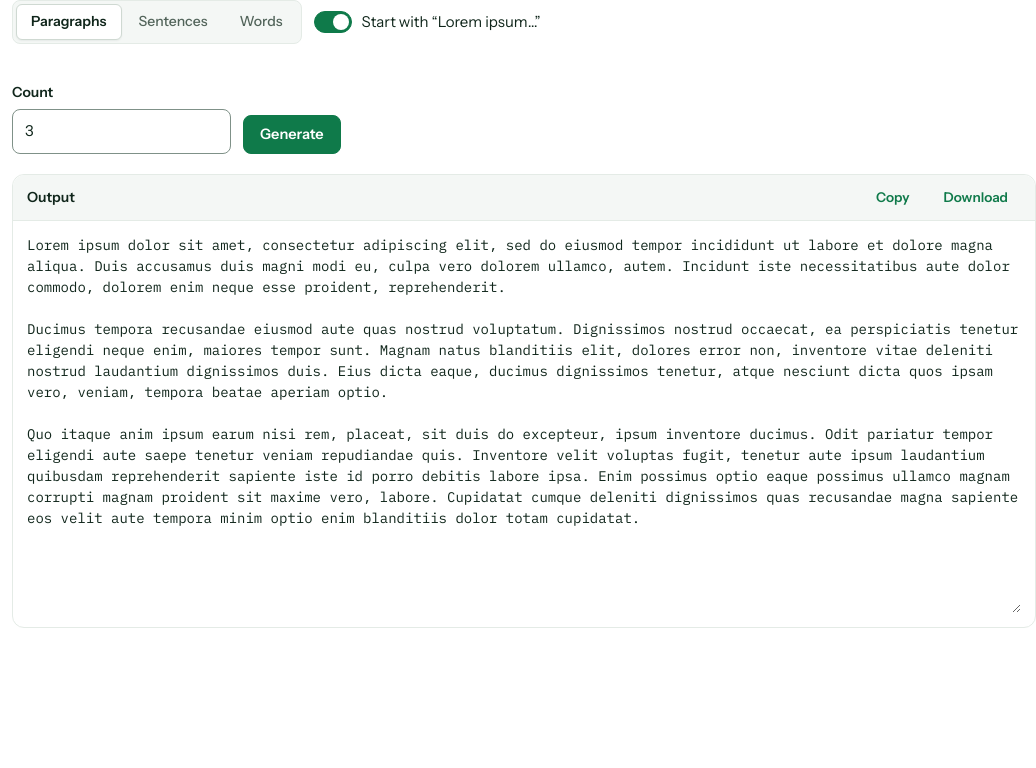
Scenario: LoremIpsum › shows error notice for invalid count (0)
Replace the text in the number field with "0": [122, 132] box [12, 109, 231, 154]
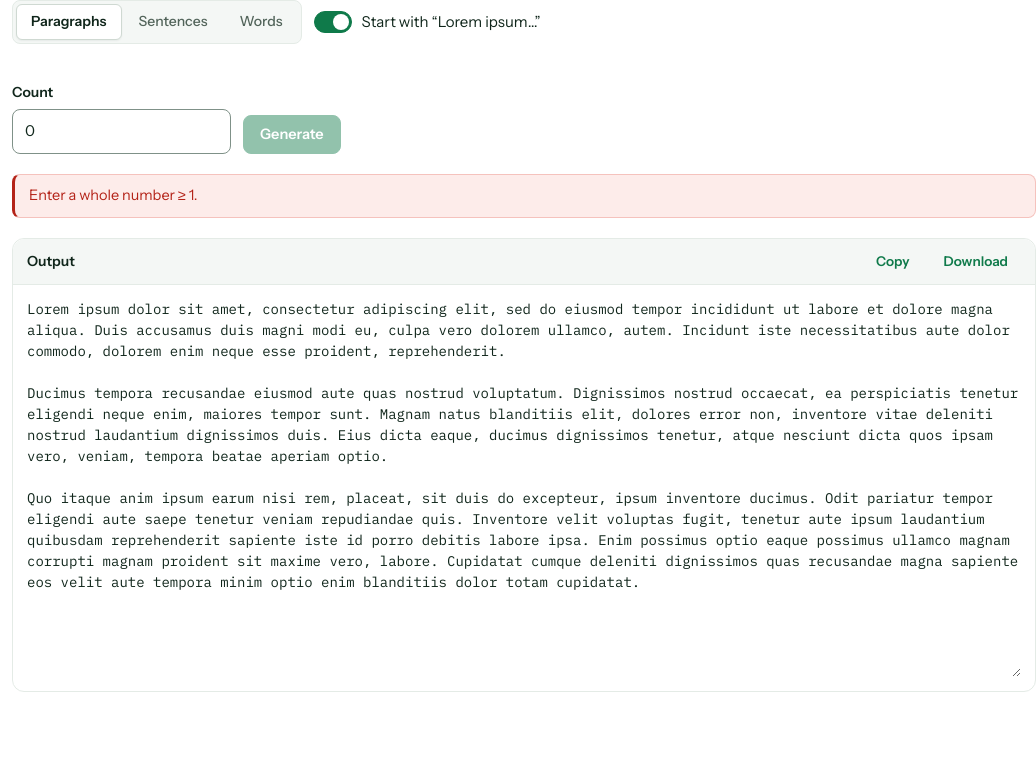
Expected: the text "Enter a whole number ≥ 1." is shown, [12, 174, 1035, 218]
Expected: the button "Generate" is disabled, [243, 115, 341, 154]
